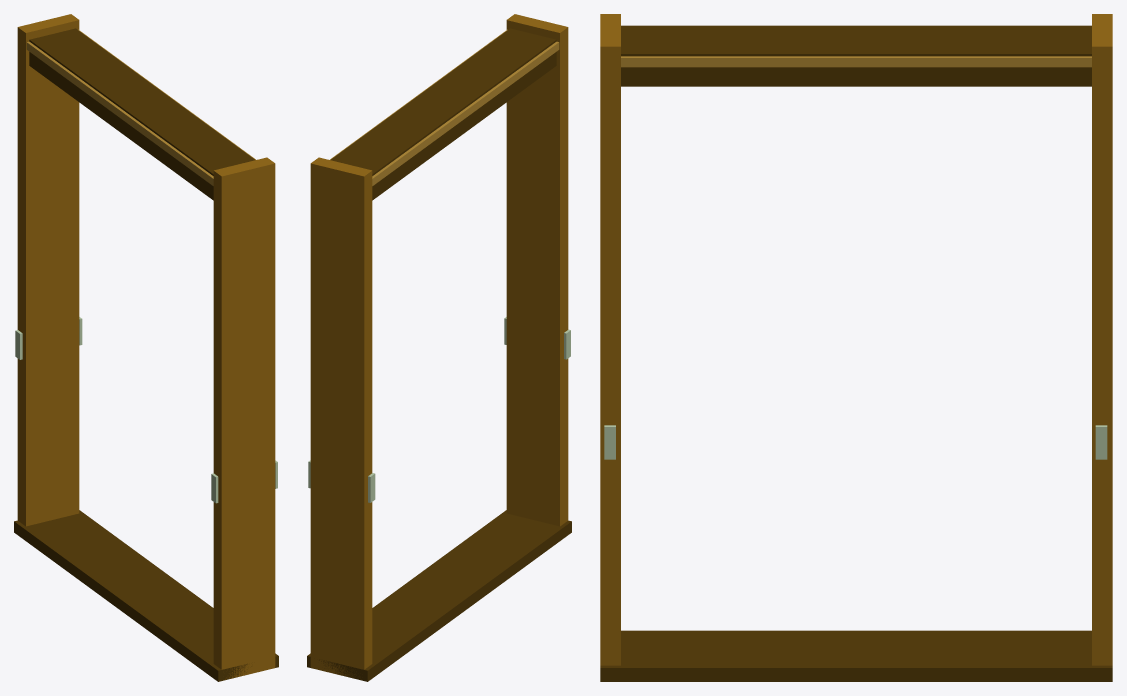
File: CMU3DLegacyEngineerDoorOpen.glb
3 renders of one model, left to right at view 1: azimuth 30°, elevation 25°; view 2: azimuth 150°, elevation 25°; view 3: azimuth 270°, elevation 25°, orthographic. The views are drawn at different scales.
Visible parts, largest first — view 1: outer jamb (×2), two tile threshold, continuous upper track, upper rail highlight; view 2: outer jamb (×2), two tile threshold, continuous upper track, upper rail highlight; view 3: outer jamb (×2), two tile threshold, continuous upper track, upper rail highlight.
Boxes of the visible parts, box(x1,y1,x2,y2) form: outer jamb (×2): box(17, 14, 275, 680); two tile threshold: box(14, 510, 278, 681); continuous upper track: box(29, 28, 255, 200); upper rail highlight: box(26, 29, 255, 185); outer jamb (×2): box(310, 14, 568, 679); two tile threshold: box(307, 510, 571, 681); continuous upper track: box(330, 28, 556, 200); upper rail highlight: box(330, 29, 559, 185); outer jamb (×2): box(600, 14, 1112, 665); two tile threshold: box(600, 630, 1112, 681); continuous upper track: box(621, 25, 1091, 86); upper rail highlight: box(621, 56, 1091, 67).
Size of the model in its own units: 0.348 by 2.7 by 1.98.
